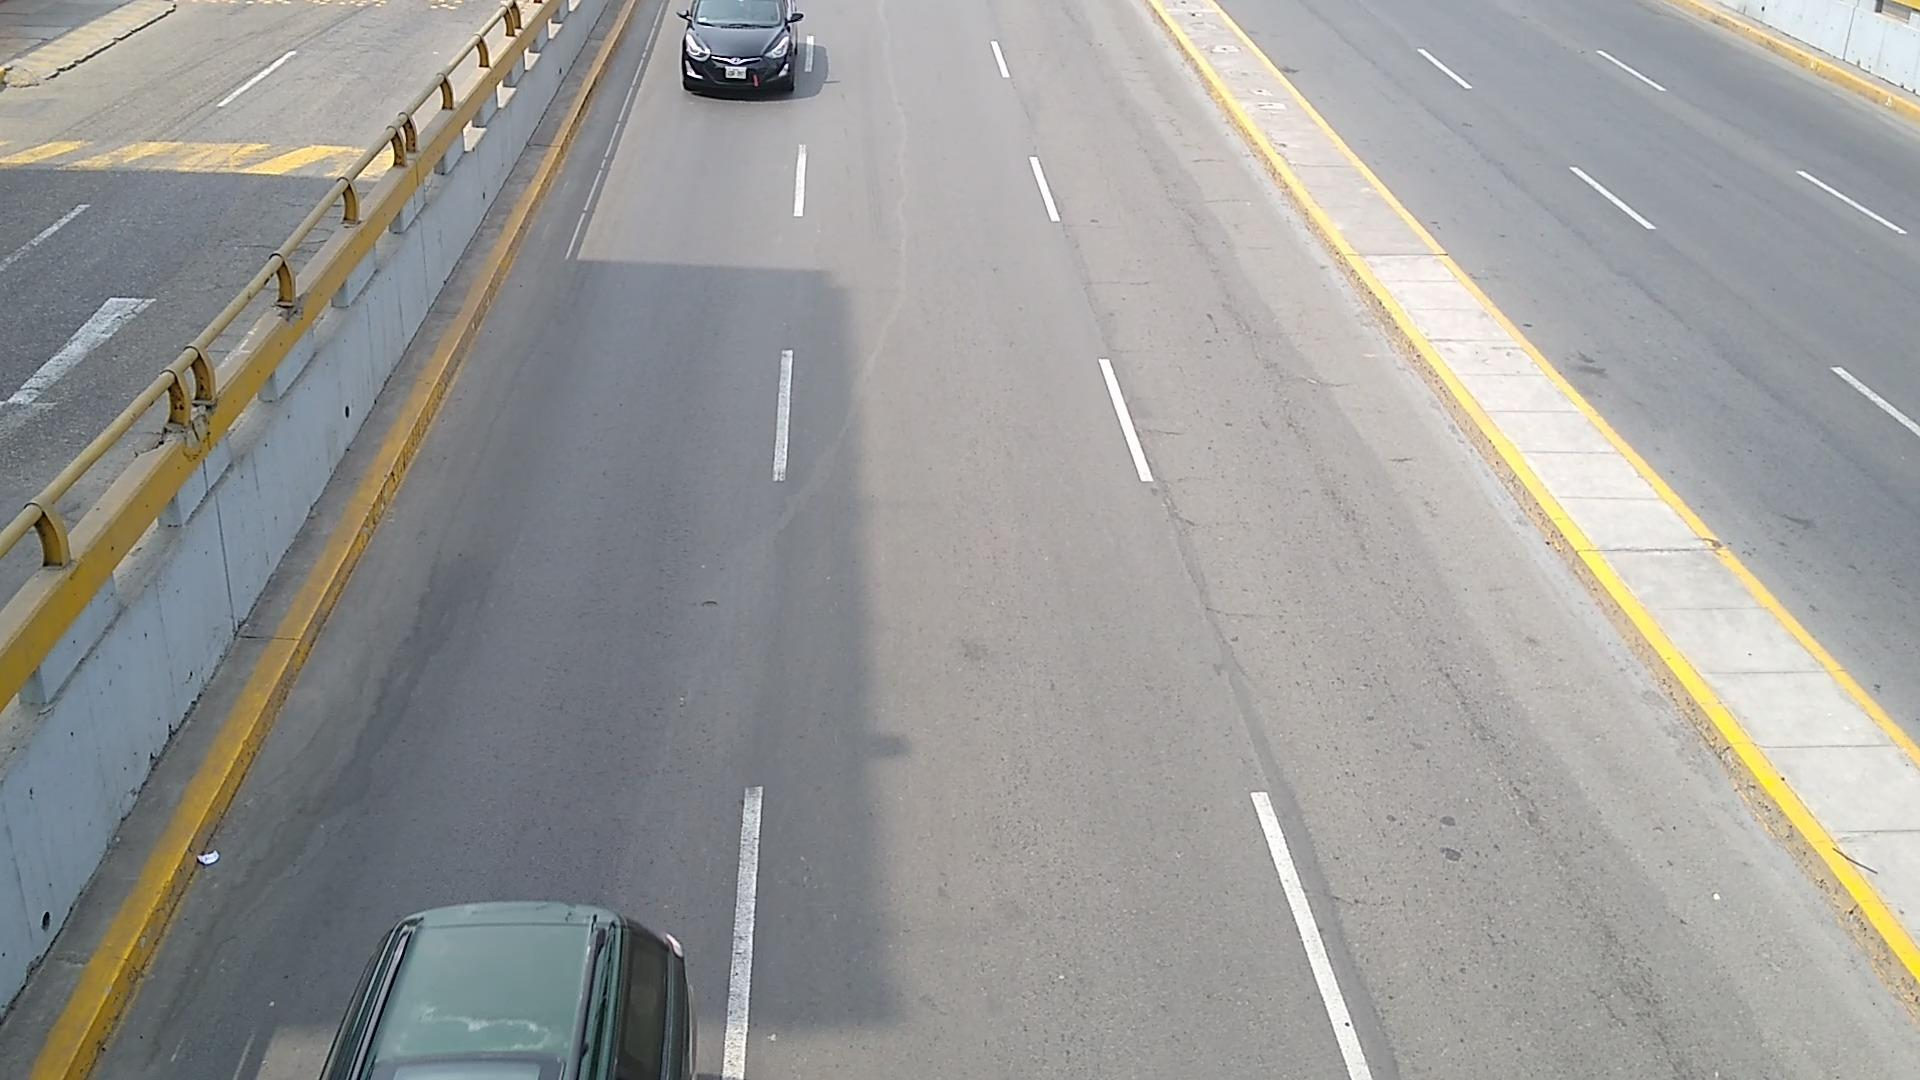car: (323, 903, 694, 1080), (679, 0, 803, 92)
